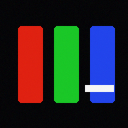3 line_h: (85, 85, 113, 91)
